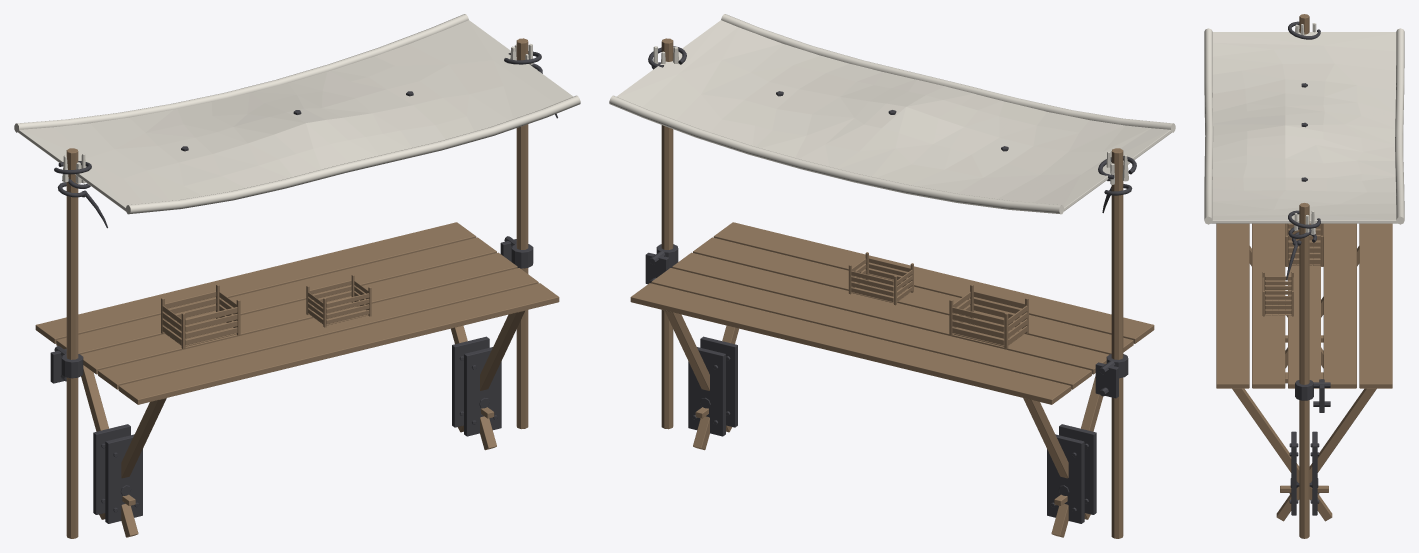
The model's file is stall.glb.
3 views of the same model, side by side, from view 1: azimuth 30°, elevation 25°; view 2: azimuth 150°, elevation 25°; view 3: azimuth 270°, elevation 25° (orthographic). The views are drawn at different scales.
Parts seen in each view (by area): view 1: stall; view 2: stall; view 3: stall.
Boxes of the visible parts, <box> form: stall: <box>14,14,580,538</box>; stall: <box>609,14,1175,538</box>; stall: <box>1204,14,1404,538</box>.
Bounding box in the file's own units: 2.8 × 2.11 × 1.15.
